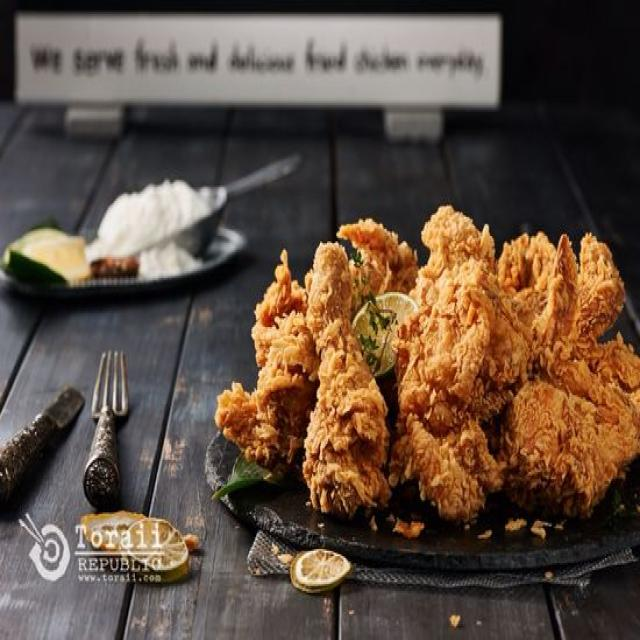Frango: (216, 215, 640, 546)
